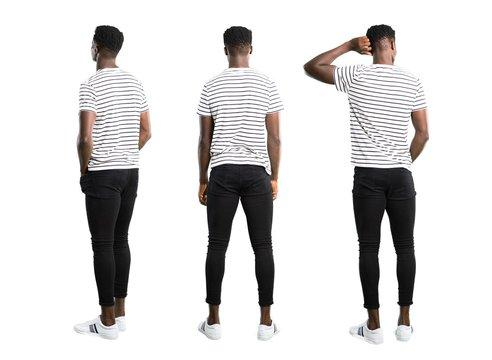short sleeve shirt: (334, 61, 429, 175), (196, 66, 285, 173), (76, 66, 150, 171)
trousers: (204, 162, 277, 311), (352, 165, 416, 313), (84, 167, 139, 307)
